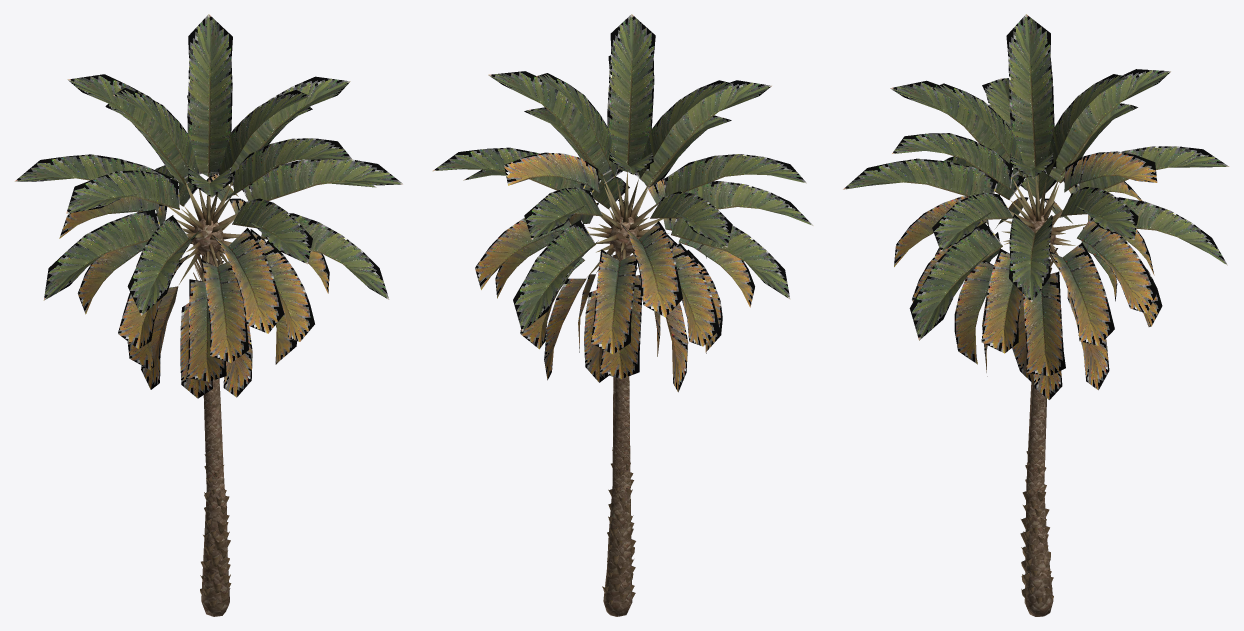
The model's file is arid-palm-tall-a-close.glb.
3 renders of one model, left to right at view 1: azimuth 30°, elevation 25°; view 2: azimuth 150°, elevation 25°; view 3: azimuth 270°, elevation 25°, orthographic.
Visible parts, largest first — view 1: palm_tree_tall_a_LOD0; view 2: palm_tree_tall_a_LOD0; view 3: palm_tree_tall_a_LOD0.
Boxes of the visible parts, bbox=[...] form: palm_tree_tall_a_LOD0: bbox=[14, 14, 402, 616]; palm_tree_tall_a_LOD0: bbox=[432, 14, 813, 616]; palm_tree_tall_a_LOD0: bbox=[843, 14, 1229, 616].
Bounding box in the file's own units: 16.88 × 27.43 × 17.24.
Materials: 1 (1 with a texture image).
